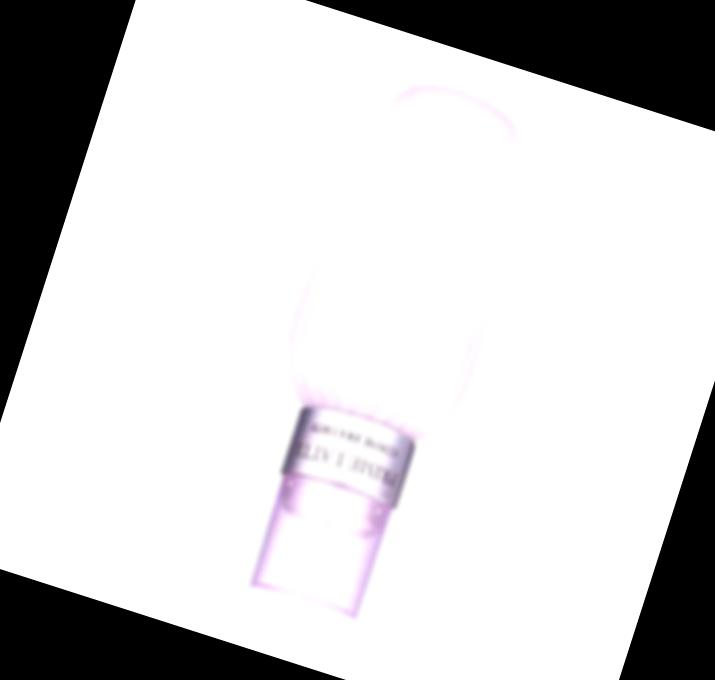cosmetic: (215, 62, 541, 633)
